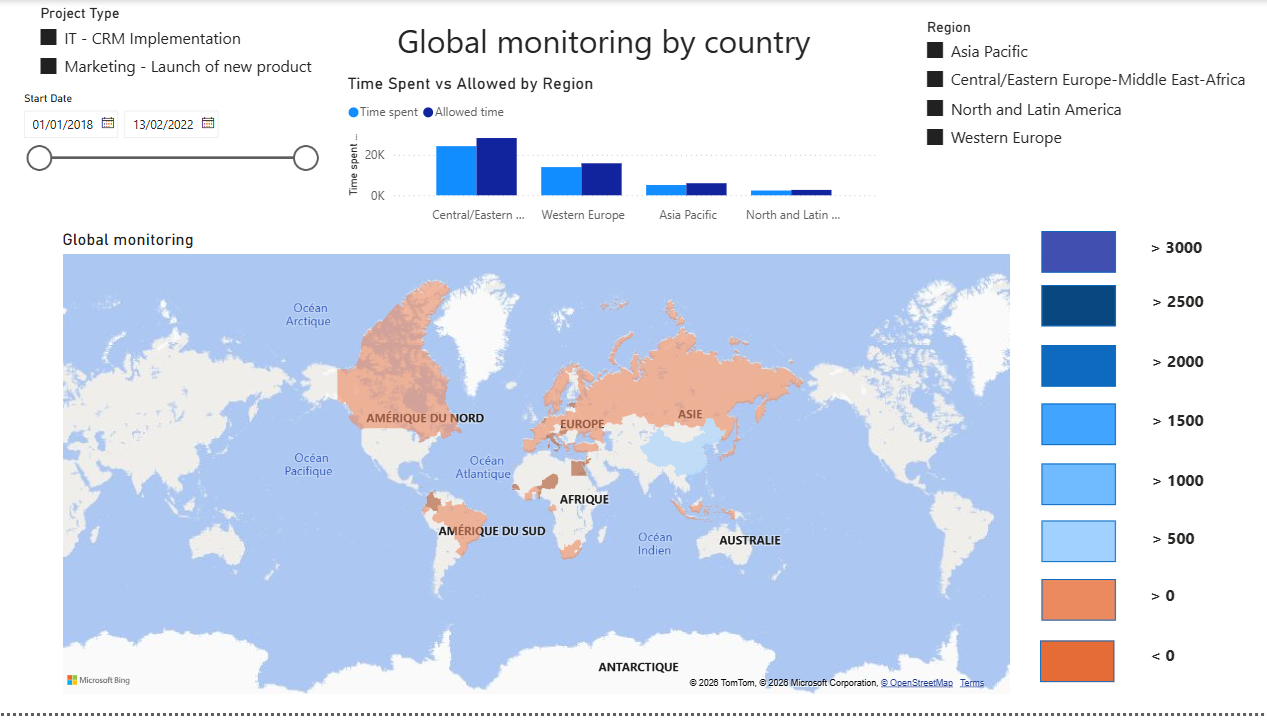

What the dashboard file says about the page in this screenshot:
{"tool":"powerbi","page":{"name":"Global Monitoring","canvas":[1280,720],"ordinal":3},"visuals":[{"type":"filledMap","title":"Global monitoring","fields":{"Category":["Country_Profiles.Country"]},"box":[59.7,232.3,965.5,474.5],"z":0},{"type":"slicer","fields":{"Values":["Project type.Project Type"]},"box":[29,0,333,150],"z":1000},{"type":"slicer","fields":{"Values":["Country_Profiles.Region"]},"box":[923.3,13.3,356.7,150],"z":2000},{"type":"slicer","fields":{"Values":["Projects_plans.Start Date"]},"box":[11.6,87.9,318.5,102.9],"z":3000},{"type":"textbox","box":[330.1,13.3,560.7,74.7],"z":4000},{"type":"shape","box":[1052,233,75,42],"z":5000},{"type":"shape","box":[1051.7,288.3,75,41.7],"z":6000},{"type":"shape","box":[1052,349,75,42],"z":7000},{"type":"shape","box":[1052,408,75,42],"z":8000},{"type":"shape","box":[1052,468,75,42],"z":9000},{"type":"shape","box":[1052,526,75,42],"z":10000},{"type":"shape","box":[1052,585,75,42],"z":11000},{"type":"shape","box":[1051,646,75,42],"z":12000},{"type":"textbox","box":[1156.7,233.3,78.3,41.7],"z":13000},{"type":"textbox","box":[1158.3,288.3,78.3,41.7],"z":14000},{"type":"textbox","box":[1158.3,348.3,78.3,41.7],"z":15000},{"type":"textbox","box":[1158.3,406.7,78.3,41.7],"z":16000},{"type":"textbox","box":[1158.3,468.3,78.3,41.7],"z":17000},{"type":"textbox","box":[1158.3,526.7,78.3,41.7],"z":18000},{"type":"textbox","box":[1156.3,584,78,41.5],"z":19000},{"type":"clusteredColumnChart","title":"Time Spent vs Allowed by Region","fields":{"Category":["Country_Profiles.Region"],"Y":["Sum(Actual_Duration.Actual_Duration)","Sum(Projects_plans.Planned_Duration)"]},"box":[346.7,74.7,544.1,157.6],"z":20000},{"type":"textbox","box":[1156.3,645.3,78,41.5],"z":21000}]}

Visuals, with their boxes in screenshot pixels (x1, y1, x2, y2), scaled from the page's 1280x720 canvas onto the 1267x721 screenshot:
"Global monitoring" filledMap: 59 233 1015 708
slicer - Project type.Project Type: 29 0 358 150
slicer - Country_Profiles.Region: 914 13 1266 164
slicer - Projects_plans.Start Date: 11 88 327 191
textbox: 327 13 882 88
shape: 1041 233 1116 275
shape: 1041 289 1115 330
shape: 1041 349 1116 392
shape: 1041 409 1116 451
shape: 1041 469 1116 511
shape: 1041 527 1116 569
shape: 1041 586 1116 628
shape: 1040 647 1115 689
textbox: 1145 234 1222 275
textbox: 1147 289 1224 330
textbox: 1147 349 1224 391
textbox: 1147 407 1224 449
textbox: 1147 469 1224 511
textbox: 1147 527 1224 569
textbox: 1145 585 1222 626
"Time Spent vs Allowed by Region" clusteredColumnChart: 343 75 882 233
textbox: 1145 646 1222 688
